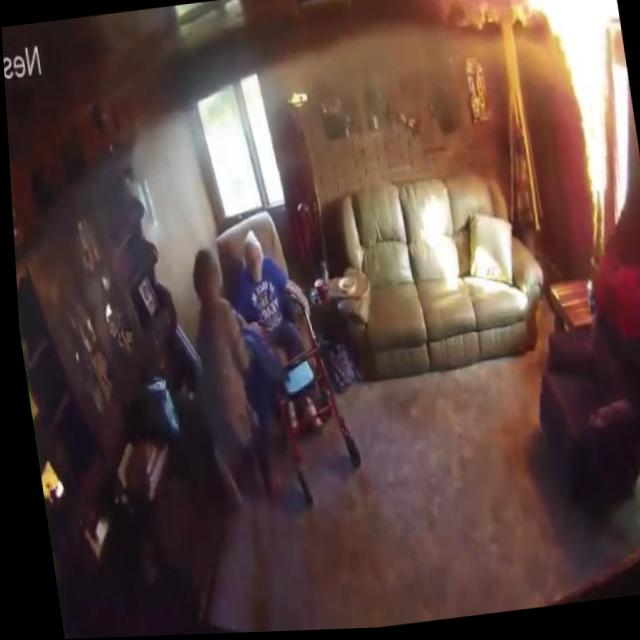fire: (555, 0, 640, 235), (452, 0, 620, 47)
